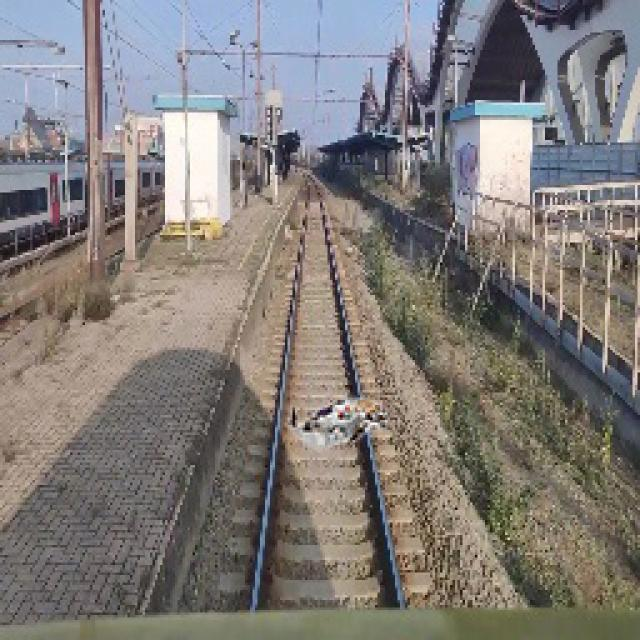danger: (282, 395, 398, 452)
rail: (205, 158, 445, 612)
